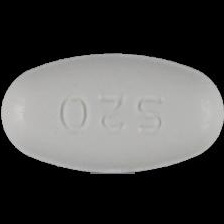49999-002: (0, 0, 224, 224)
